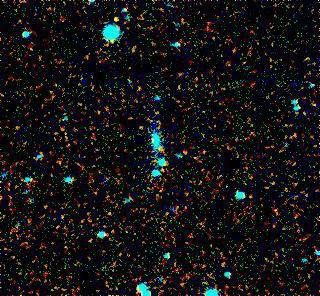star: (101, 6, 131, 36)
